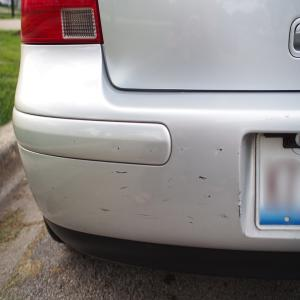Vehicle-registration-plate: (256, 132, 300, 231)
